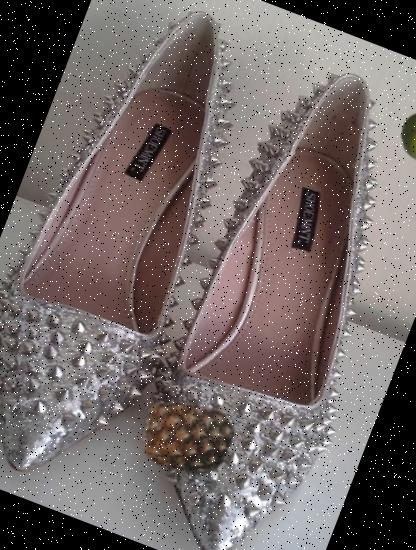Pineapple: (126, 376, 254, 503)
Pomelo: (389, 92, 416, 180)
